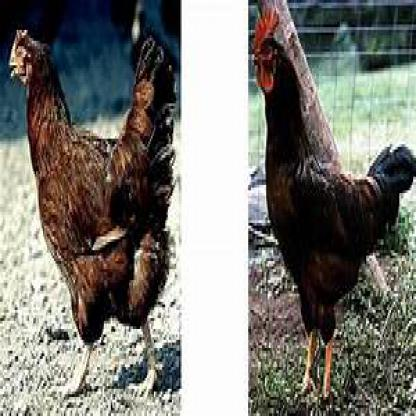chicken: (252, 8, 414, 405), (8, 27, 176, 397)
